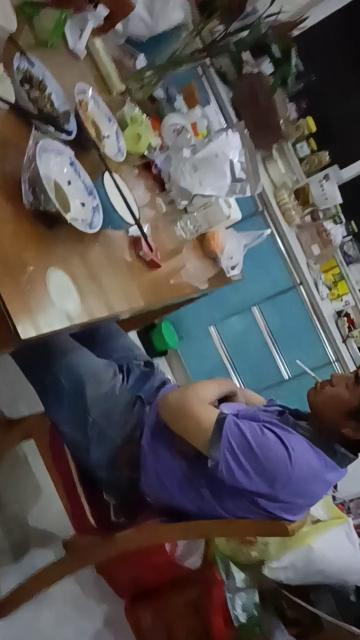Smoking: (296, 360, 322, 382)
